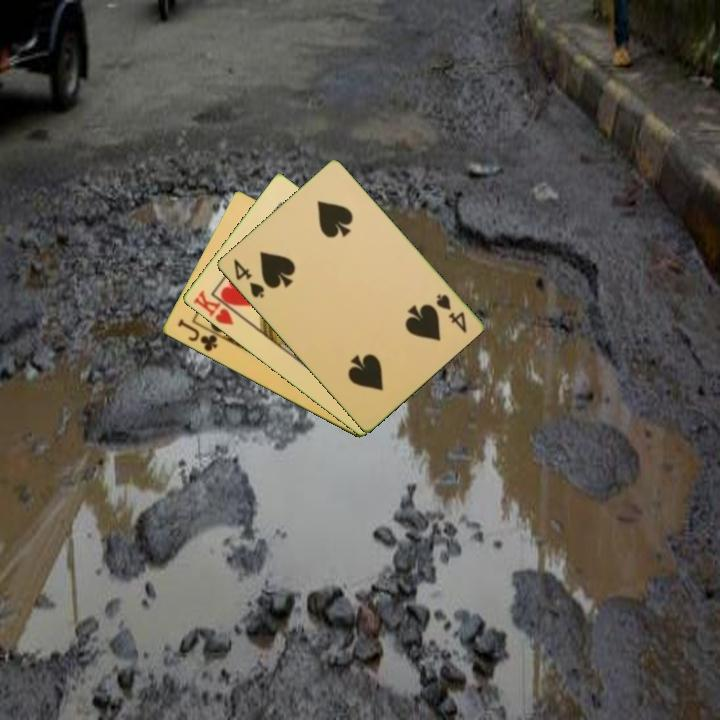4s: (229, 255, 267, 301), (432, 291, 469, 336)
Jc: (173, 315, 220, 355)
Kh: (189, 286, 244, 328)
